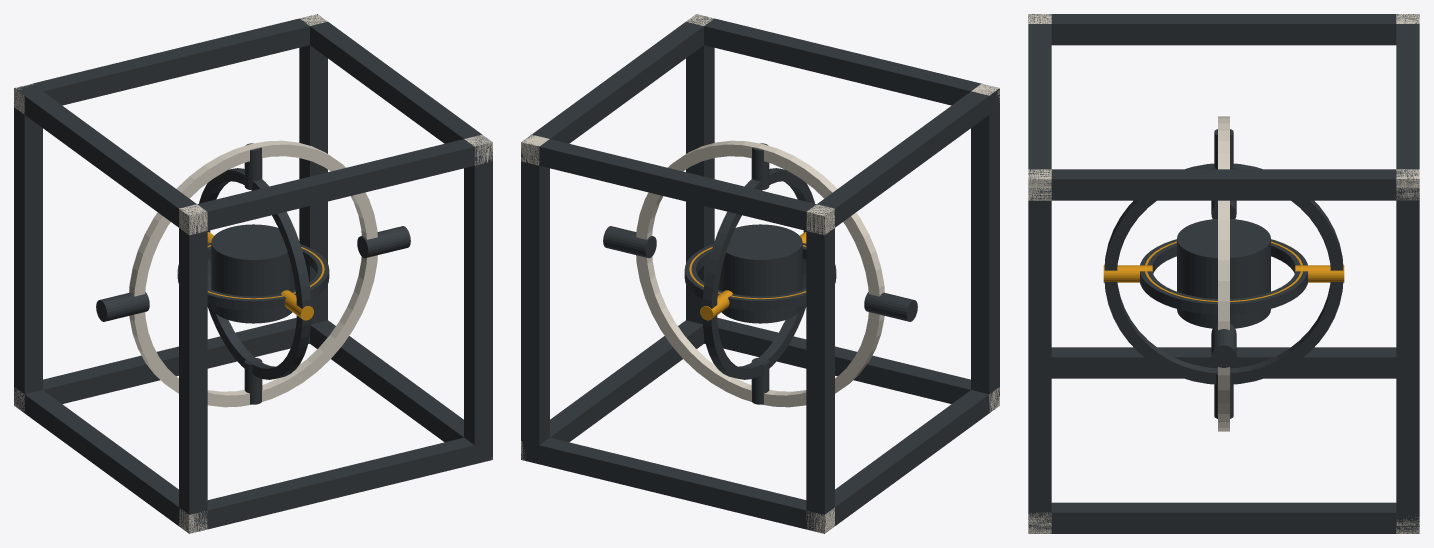
The model's file is Gyroscope.fbx.
3 renders of one model, left to right at view 1: azimuth 30°, elevation 25°; view 2: azimuth 150°, elevation 25°; view 3: azimuth 270°, elevation 25°, orthographic. The views are drawn at different scales.
Parts seen in each view (by area): view 1: Gyroscope_Geometry; view 2: Gyroscope_Geometry; view 3: Gyroscope_Geometry.
Boxes of the visible parts, bbox=[...] form: Gyroscope_Geometry: bbox=[14, 14, 492, 533]; Gyroscope_Geometry: bbox=[521, 14, 999, 533]; Gyroscope_Geometry: bbox=[1028, 14, 1419, 533].
Bounding box in the file's own units: 100 × 100 × 100.
